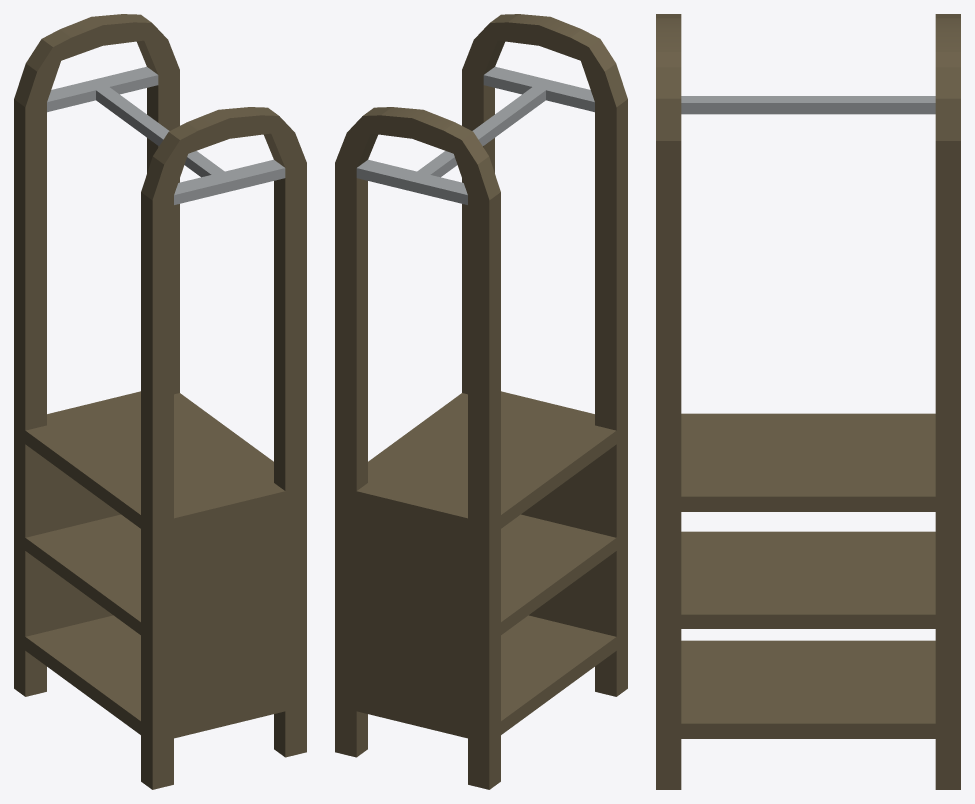
The model's file is HangerShelf.fbx.
3 views of the same model, side by side, from view 1: azimuth 30°, elevation 25°; view 2: azimuth 150°, elevation 25°; view 3: azimuth 270°, elevation 25° (orthographic). The views are drawn at different scales.
Parts seen in each view (by area): view 1: pCube43; view 2: pCube43; view 3: pCube43.
Part boxes in pixels (<box>): pCube43: <box>14,14,306,789</box>; pCube43: <box>335,14,627,789</box>; pCube43: <box>656,14,960,789</box>.
Bounding box in the file's own units: 29.27 × 118 × 45.44.
